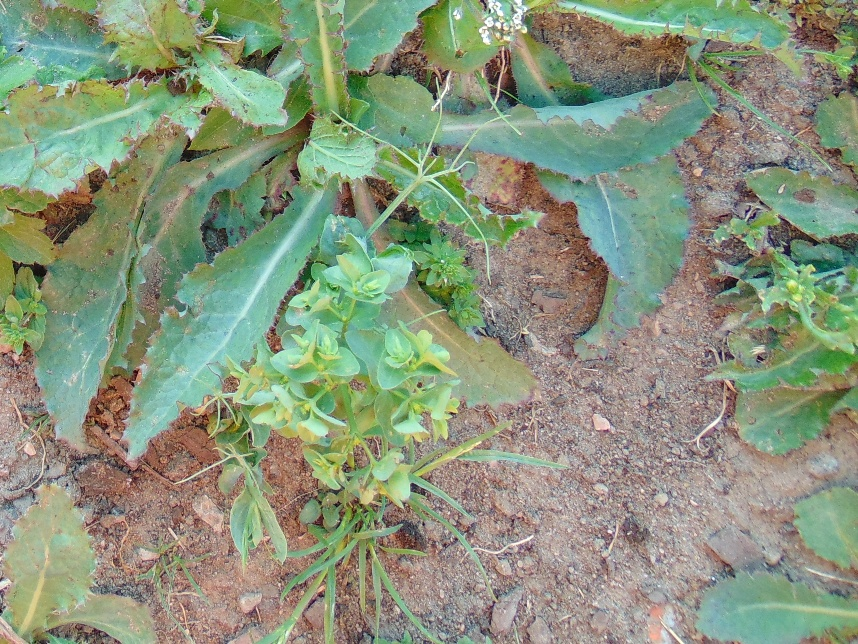crop: (188, 391, 285, 559), (338, 150, 440, 288)
weed: (1, 1, 715, 454), (699, 1, 858, 458), (699, 482, 858, 644), (278, 467, 436, 629), (1, 482, 158, 644)
